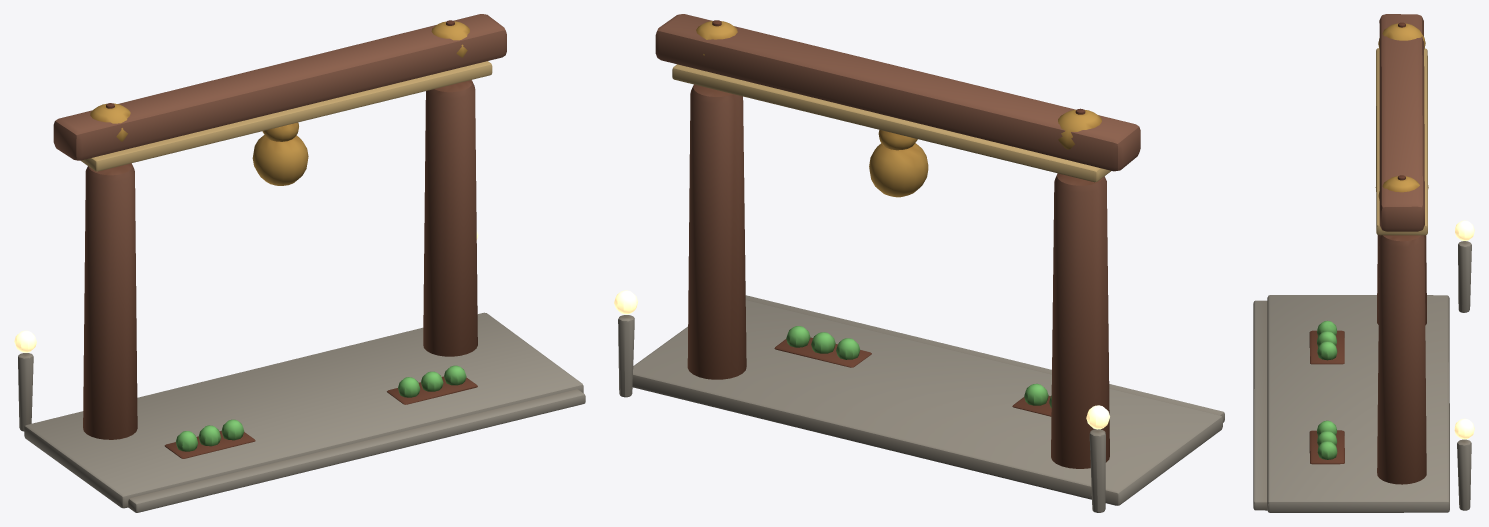
3 views of the same model, side by side, from view 1: azimuth 30°, elevation 25°; view 2: azimuth 150°, elevation 25°; view 3: azimuth 270°, elevation 25° (orthographic). The views are drawn at different scales.
Visible parts, largest first — view 1: gate_dd67788c; view 2: gate_dd67788c; view 3: gate_dd67788c.
Part boxes in pixels (x1,y1,x2,y2): gate_dd67788c: (14,14,585,512); gate_dd67788c: (614,14,1224,512); gate_dd67788c: (1253,14,1474,512).
Size of the model in its own units: 5.66 by 3.95 by 2.54.
